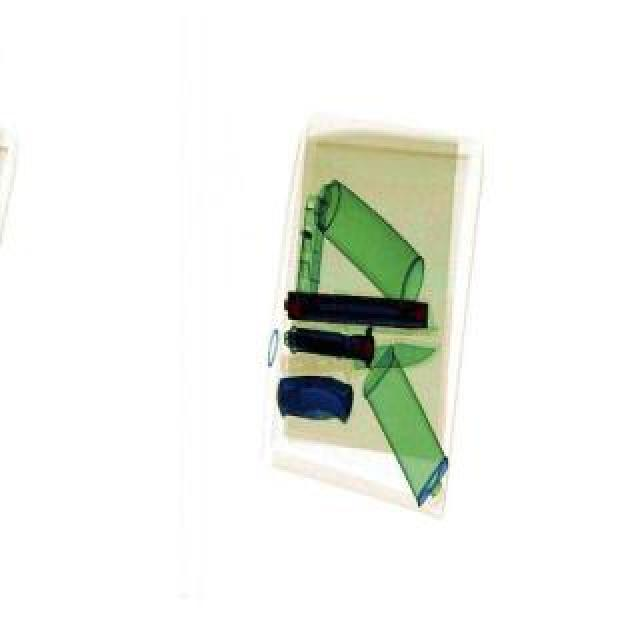knife: (270, 372, 356, 422), (282, 320, 378, 364), (352, 338, 436, 370)
